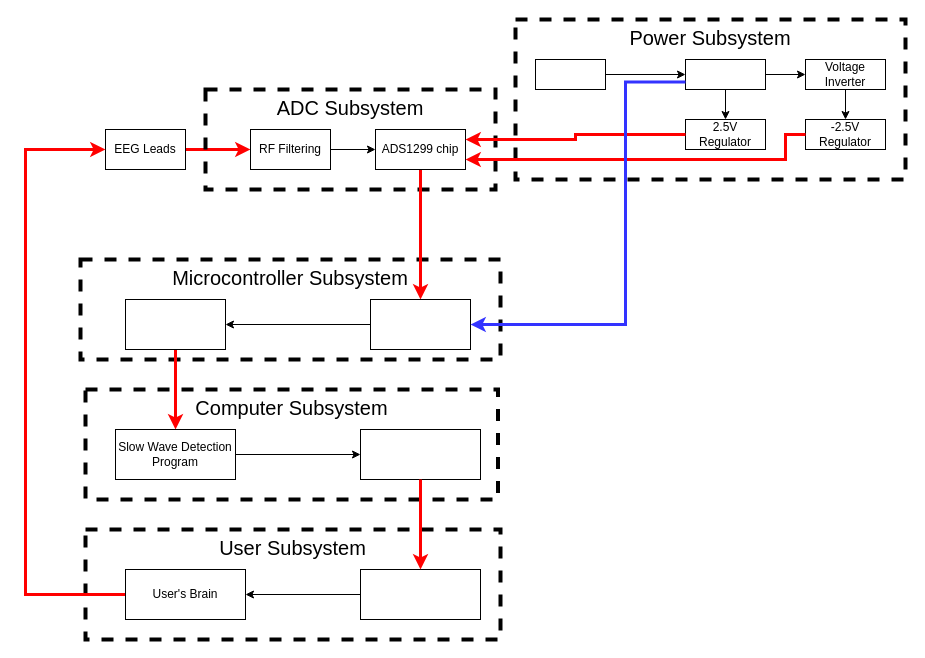
The diagram is 925 pixels wide and 658 high, and some of its shapes have lost their labels. The shapes that lost their labels are listed below. From the top down, each one's centre as x and y in pixels, then its label:
the point at 570,74: 5V Battery
the point at 725,74: 3.3V Regulator
the point at 175,324: In-built Bluetooth Module
the point at 420,324: STM32WB5MMG Microcontroller
the point at 420,454: Speaker System
the point at 420,594: User's Ears
